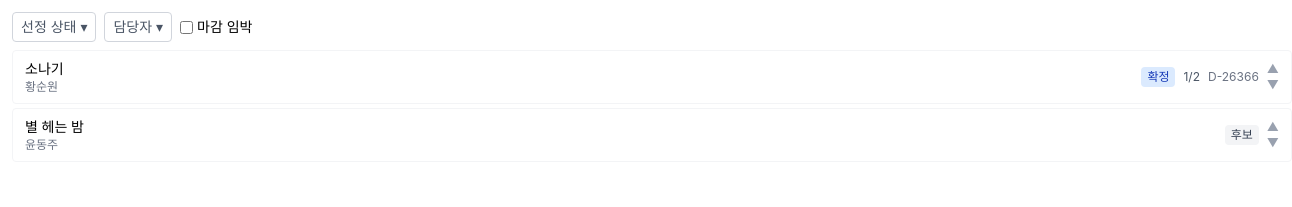
Test case: 선정 상태 필터가 목록을 거른다
The image size is (1292, 207).
What coordinates should you click on to do the following:
click the button "선정 상태 ▾"
I would click on:
 (54, 27)
Its box is [12, 12, 96, 42].
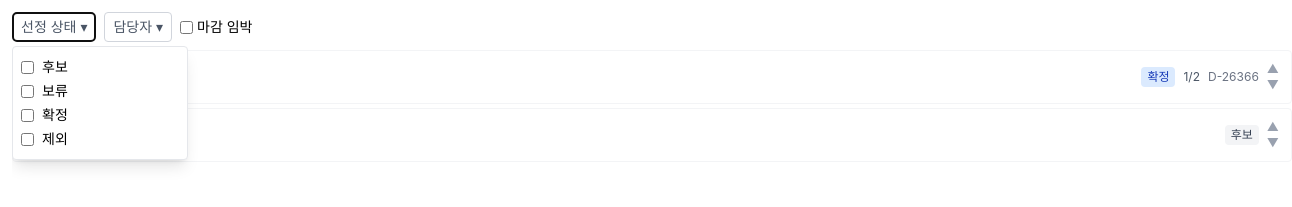
What coordinates should you click on to do the following:
click the checkbox labelled "후보"
I would click on:
 (28, 67)
Its box is [21, 60, 34, 74].
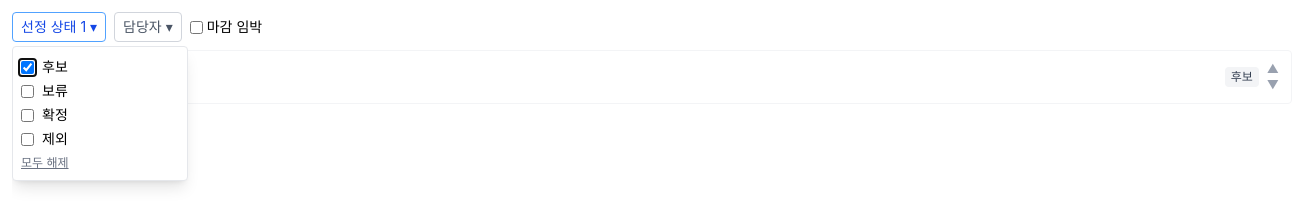
expect the text "별 헤는 밤" is shown: met, box [25, 60, 84, 77]
expect the text "소나기" is gone: met
